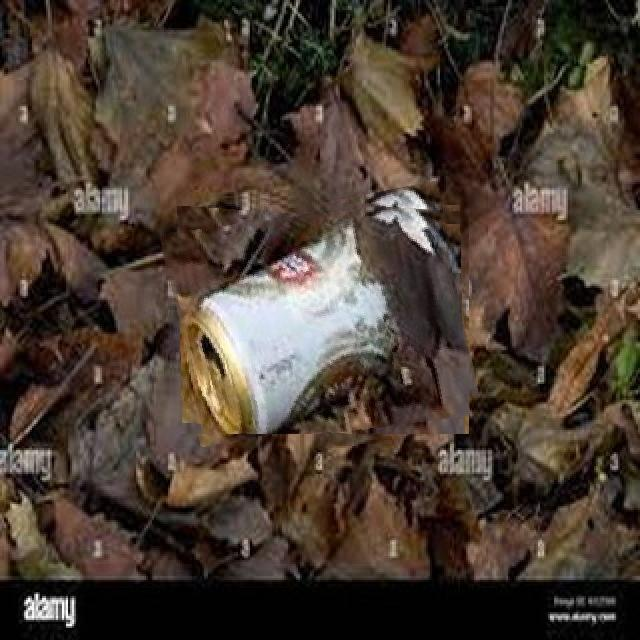recyclable: (168, 192, 469, 434)
